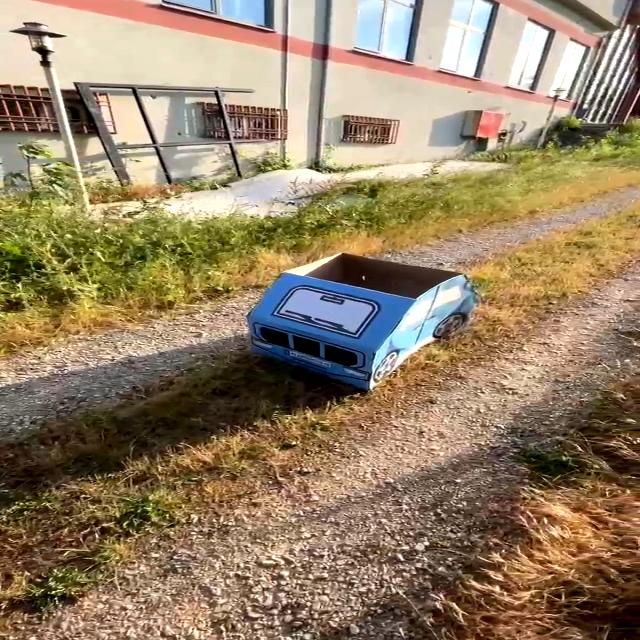blue_car: (175, 230, 535, 401)
